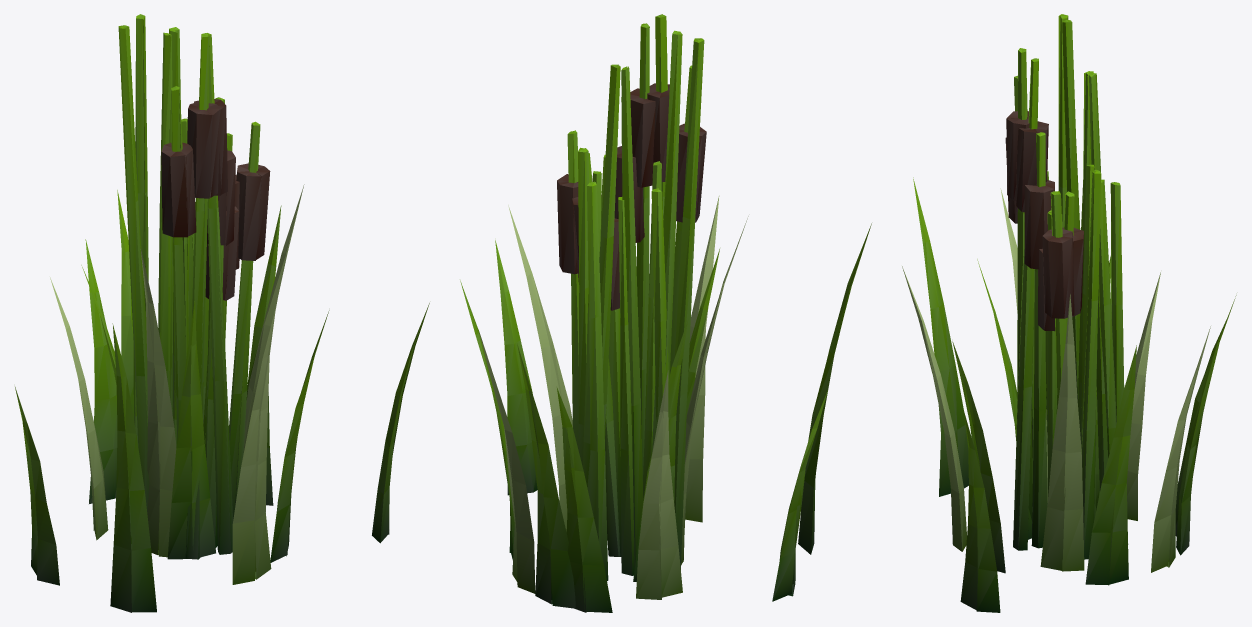
Rendered from vegetasi_reeds_moss_56379.glb.
3 views of the same model, side by side, from view 1: azimuth 30°, elevation 25°; view 2: azimuth 150°, elevation 25°; view 3: azimuth 270°, elevation 25° (orthographic). The views are drawn at different scales.
Visible parts, largest first — view 1: Alang_Alang_Air_Sungai; view 2: Alang_Alang_Air_Sungai; view 3: Alang_Alang_Air_Sungai.
Boxes of the visible parts, bbox=[...] form: Alang_Alang_Air_Sungai: bbox=[15, 14, 429, 612]; Alang_Alang_Air_Sungai: bbox=[460, 14, 871, 612]; Alang_Alang_Air_Sungai: bbox=[902, 14, 1236, 612].
Size of the model in its own units: 2.09 by 2.86 by 1.74.
